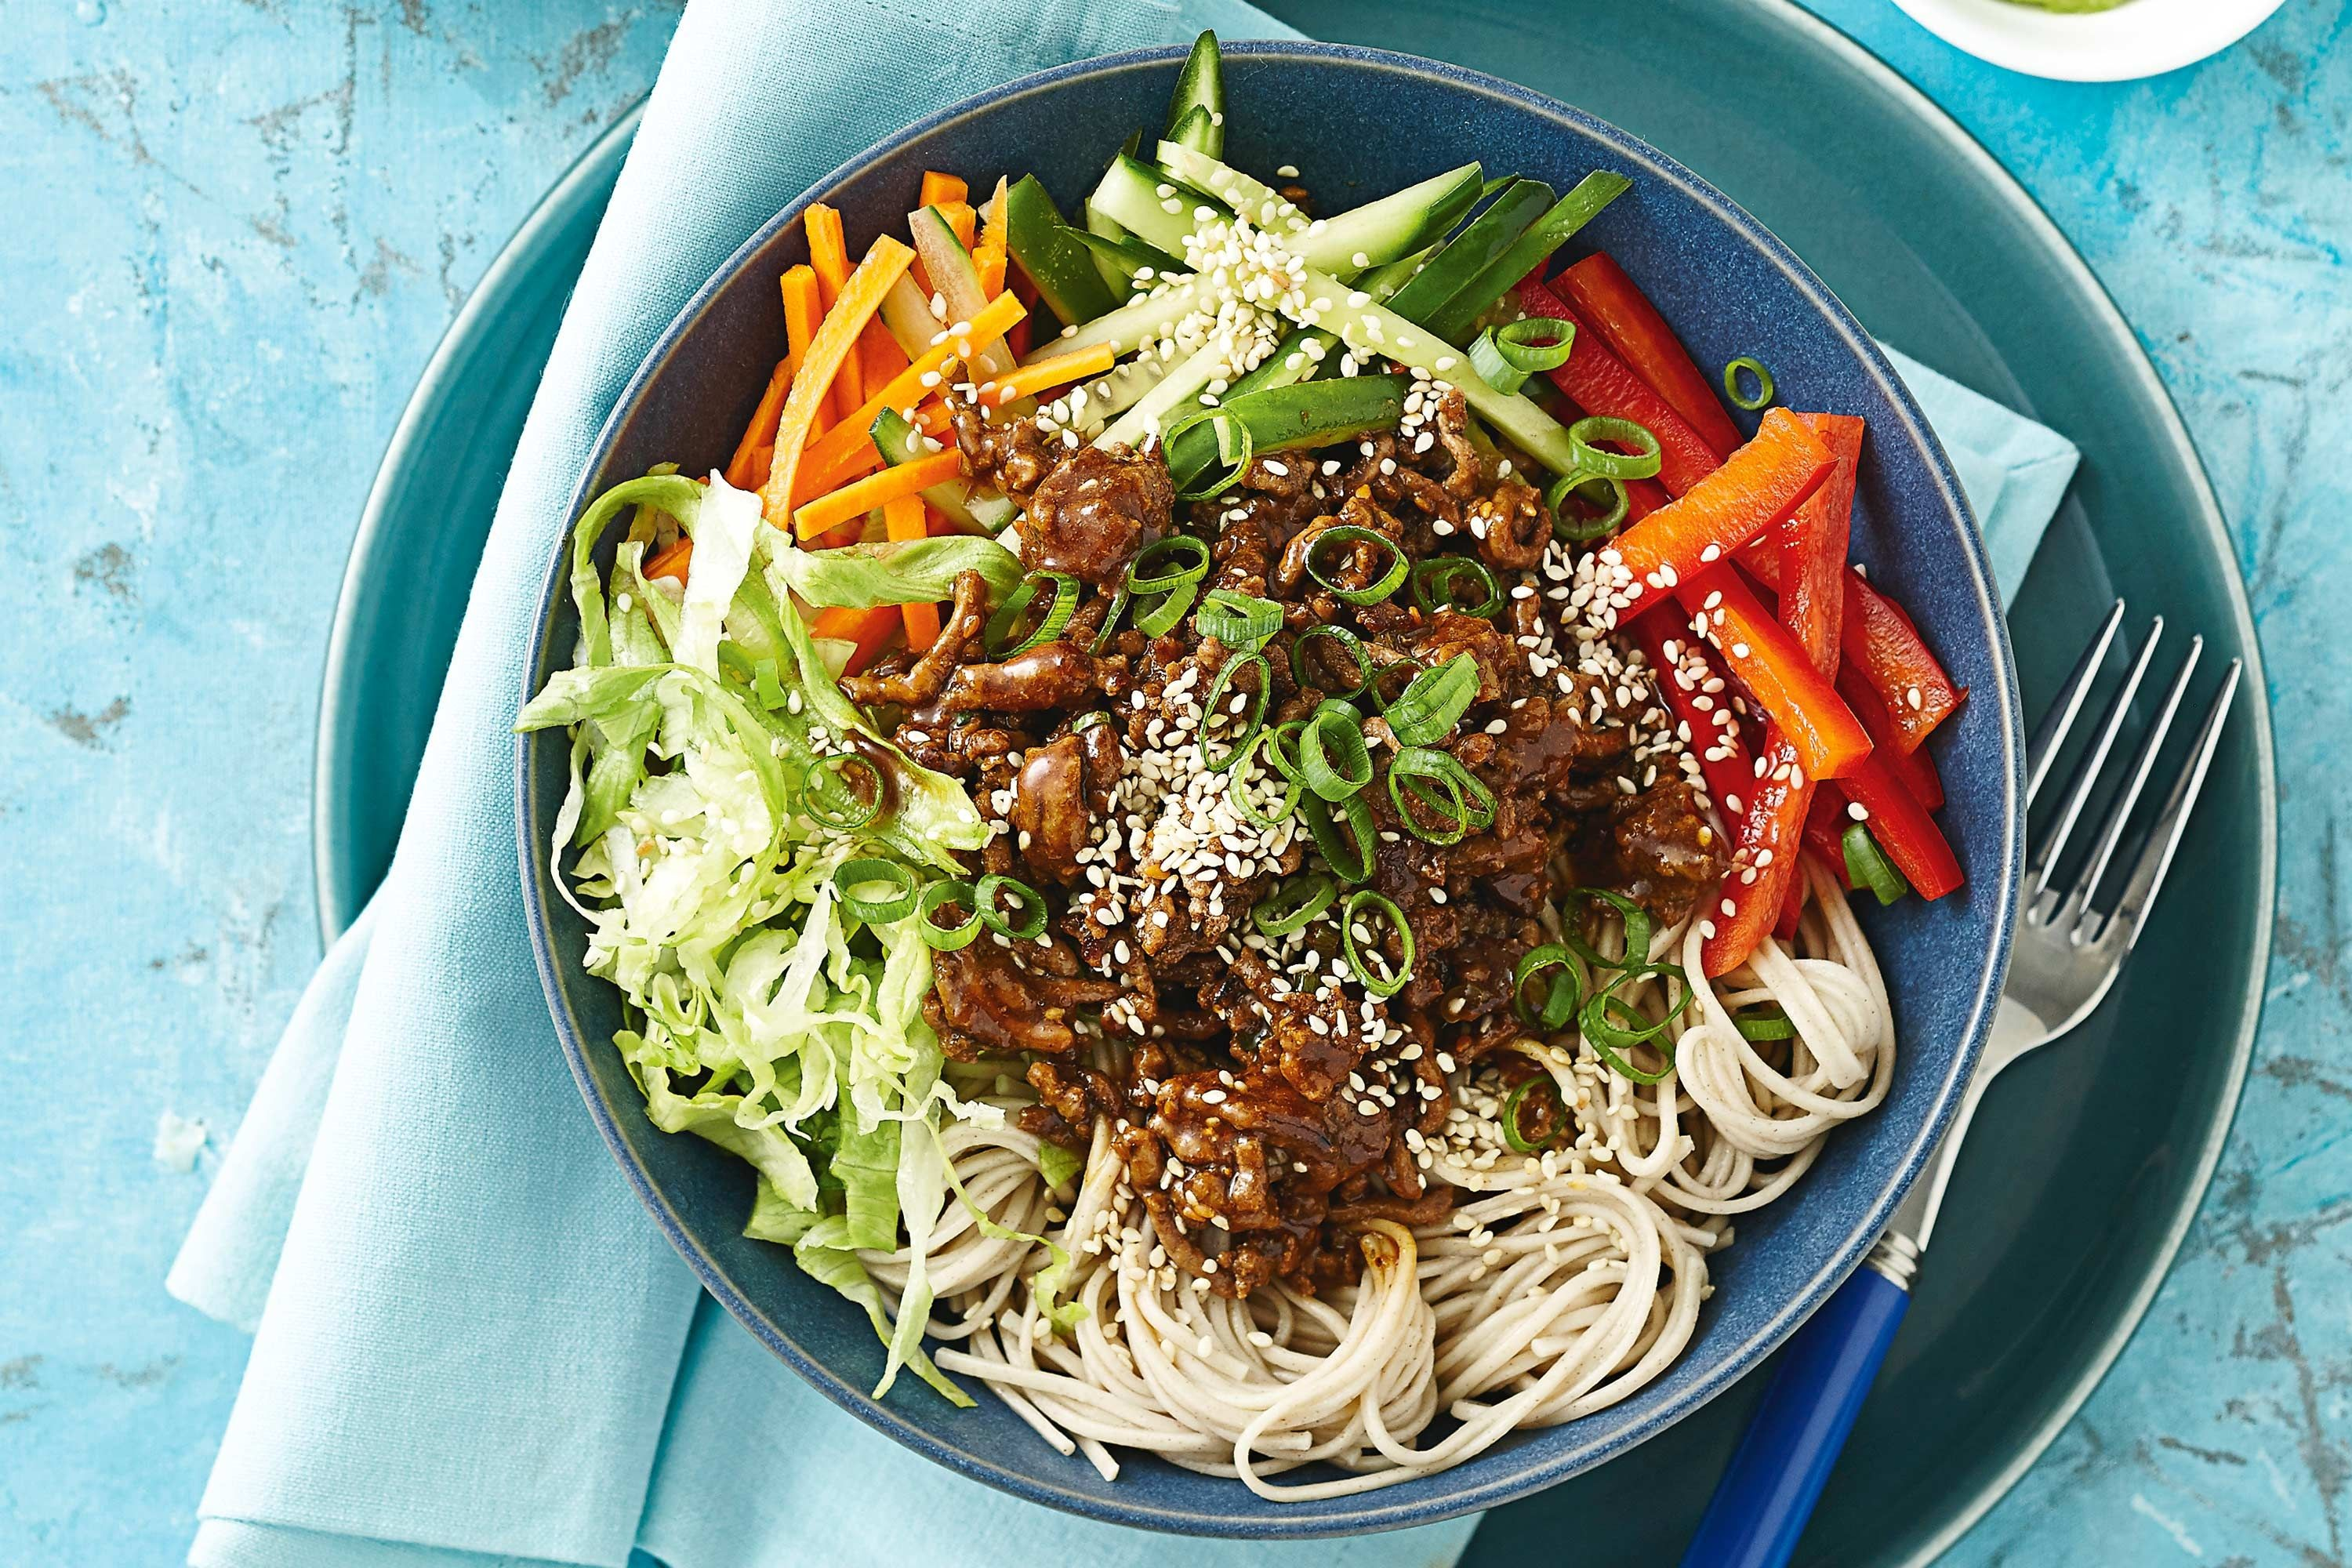Soba: (906, 1064, 1871, 1477)
